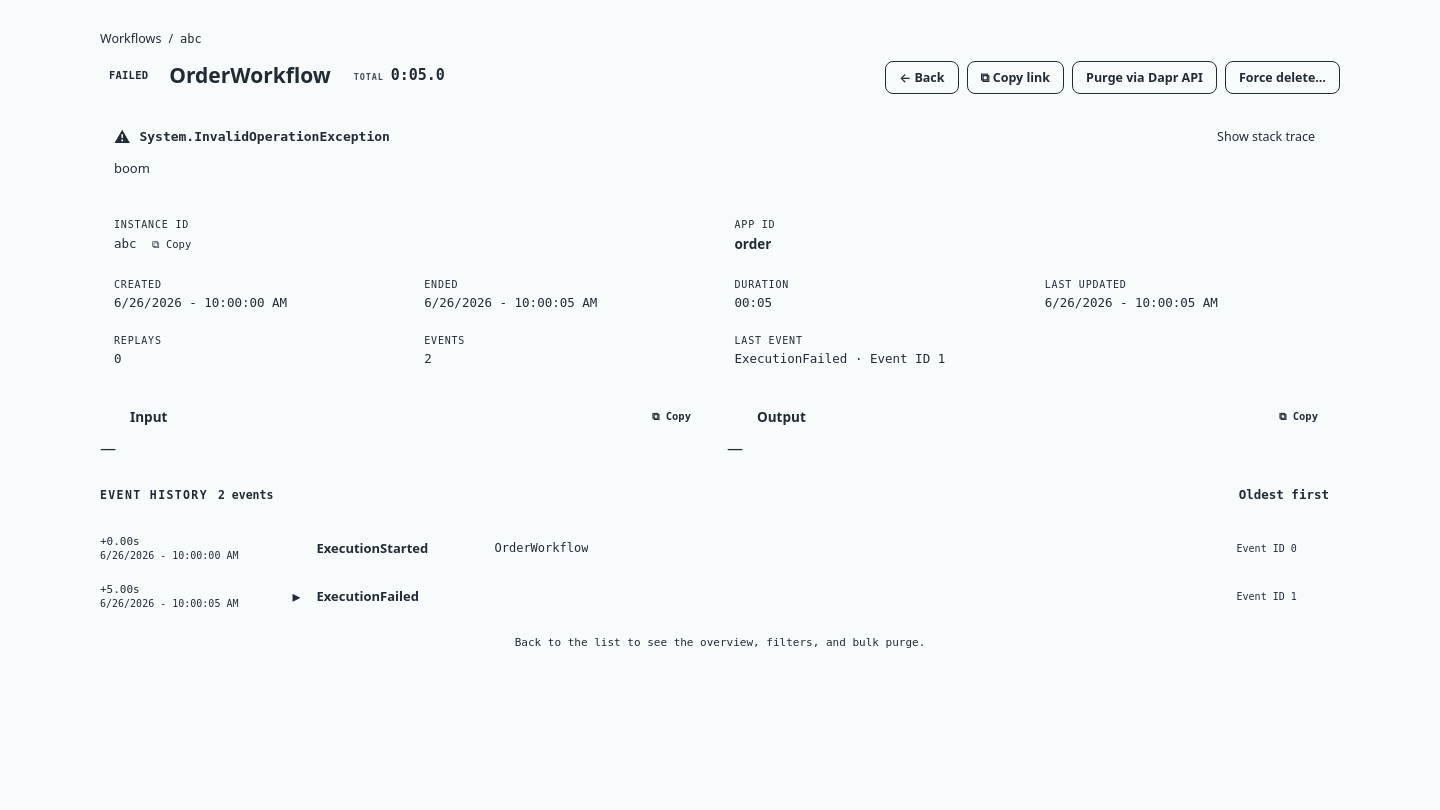
Test: WorkflowDetail — failure banner › shows a failure banner with type + message, stack trace hidden until toggled
Expected: the message shows "System.InvalidOperationException", [139, 129, 390, 144]
Expected: the message shows "boom", [114, 159, 150, 177]
Click the button "Show stack trace".
click(1266, 136)  # box [1206, 122, 1326, 151]
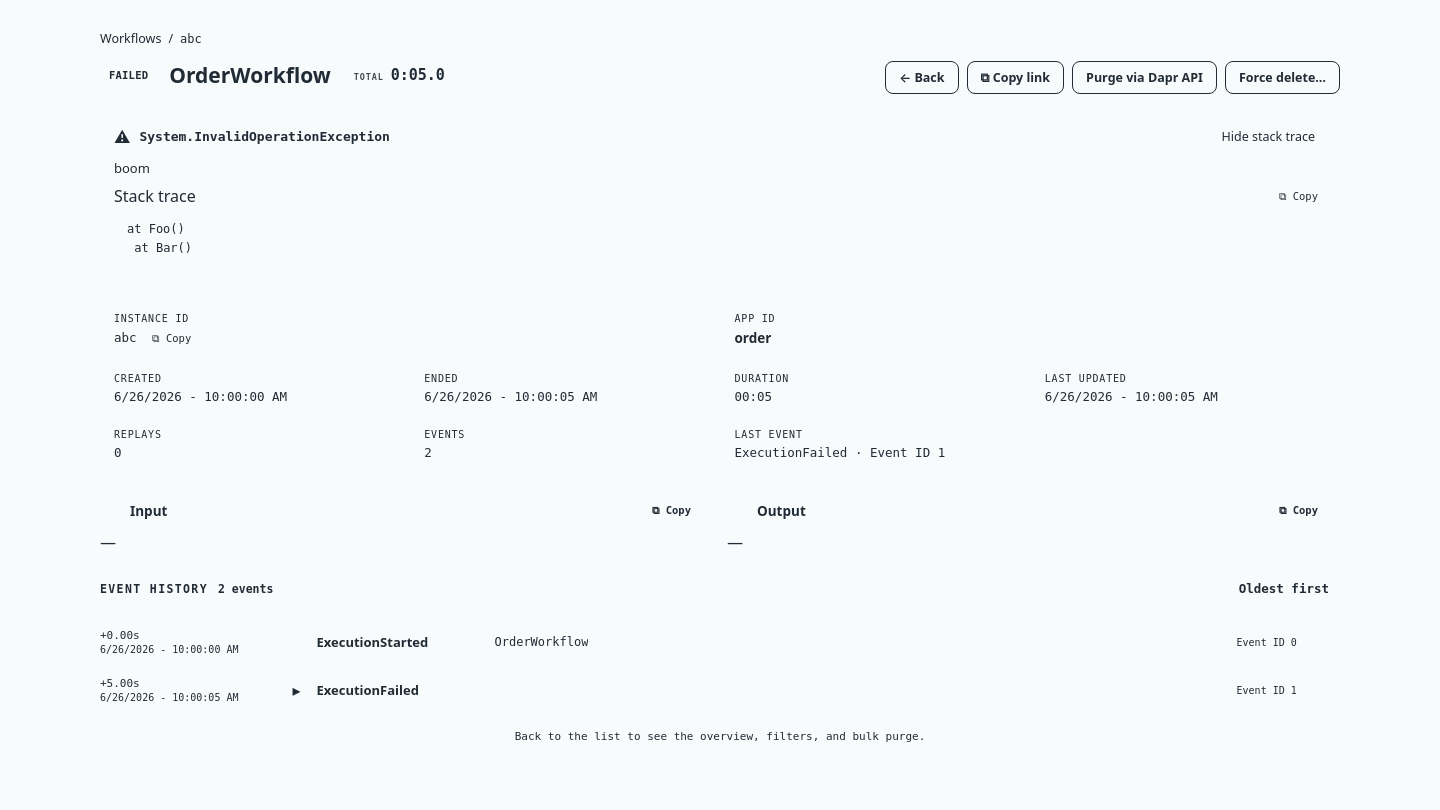
Expected: the text "at Foo() at Bar()" is shown, [127, 222, 192, 255]
